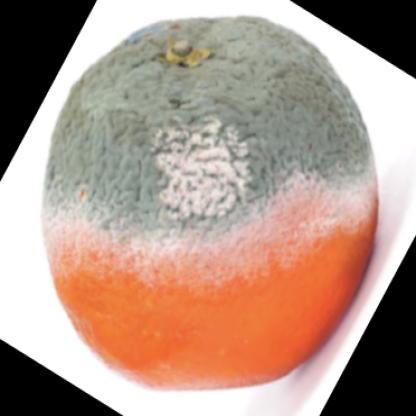rotten: (41, 16, 382, 391)
